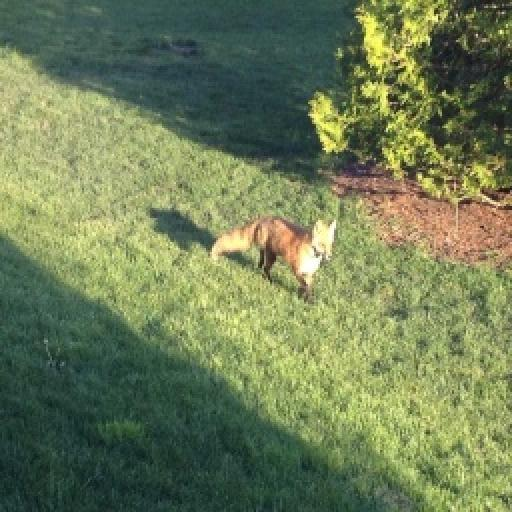zorro: (212, 216, 336, 298)
